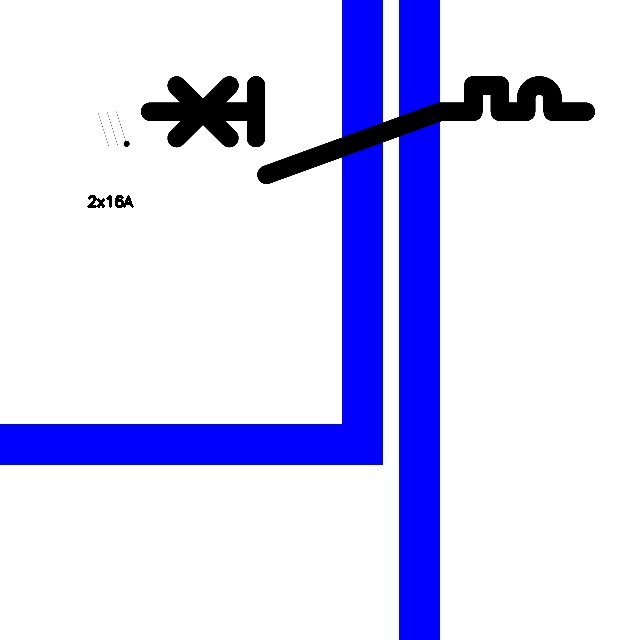interruptor_termomagnetico: (138, 74, 596, 186)
